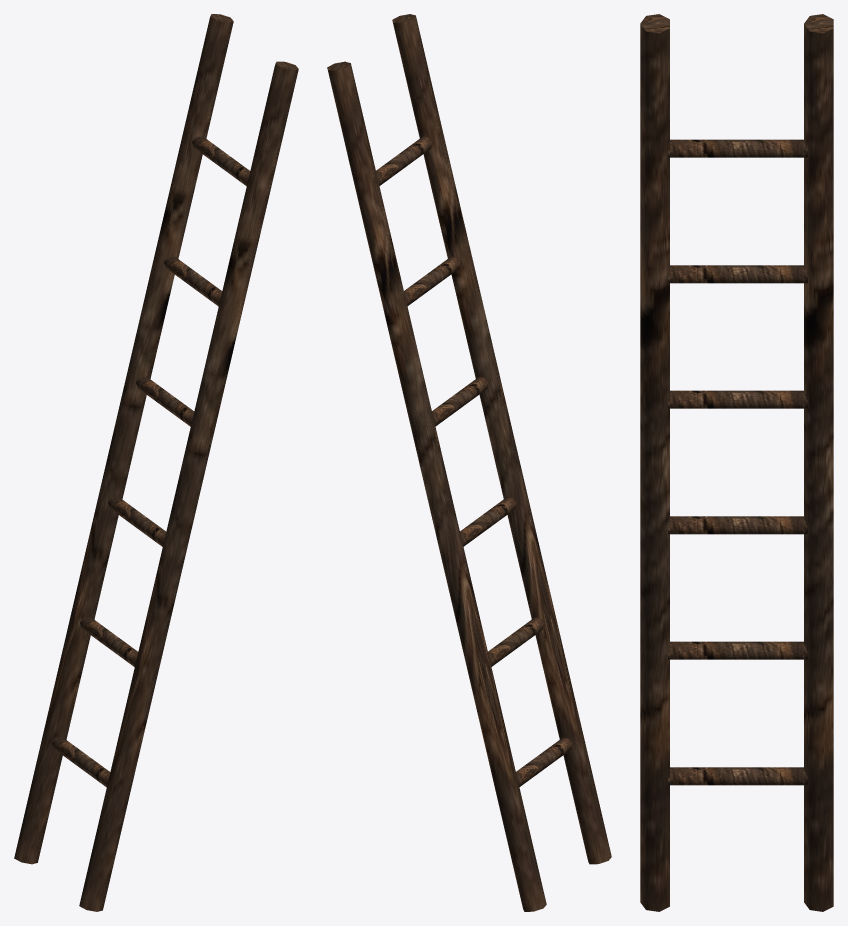
Rendered from ladder.glb.
3 views of the same model, side by side, from view 1: azimuth 30°, elevation 25°; view 2: azimuth 150°, elevation 25°; view 3: azimuth 270°, elevation 25° (orthographic). The views are drawn at different scales.
Parts seen in each view (by area): view 1: part_0; view 2: part_0; view 3: part_0.
Boxes of the visible parts, <box> form: part_0: <box>14,14,298,911</box>; part_0: <box>327,14,611,911</box>; part_0: <box>640,14,833,911</box>.
Size of the model in its own units: 0.4993 by 1.76 by 0.3075.
Materials: 1 (1 with a texture image).
